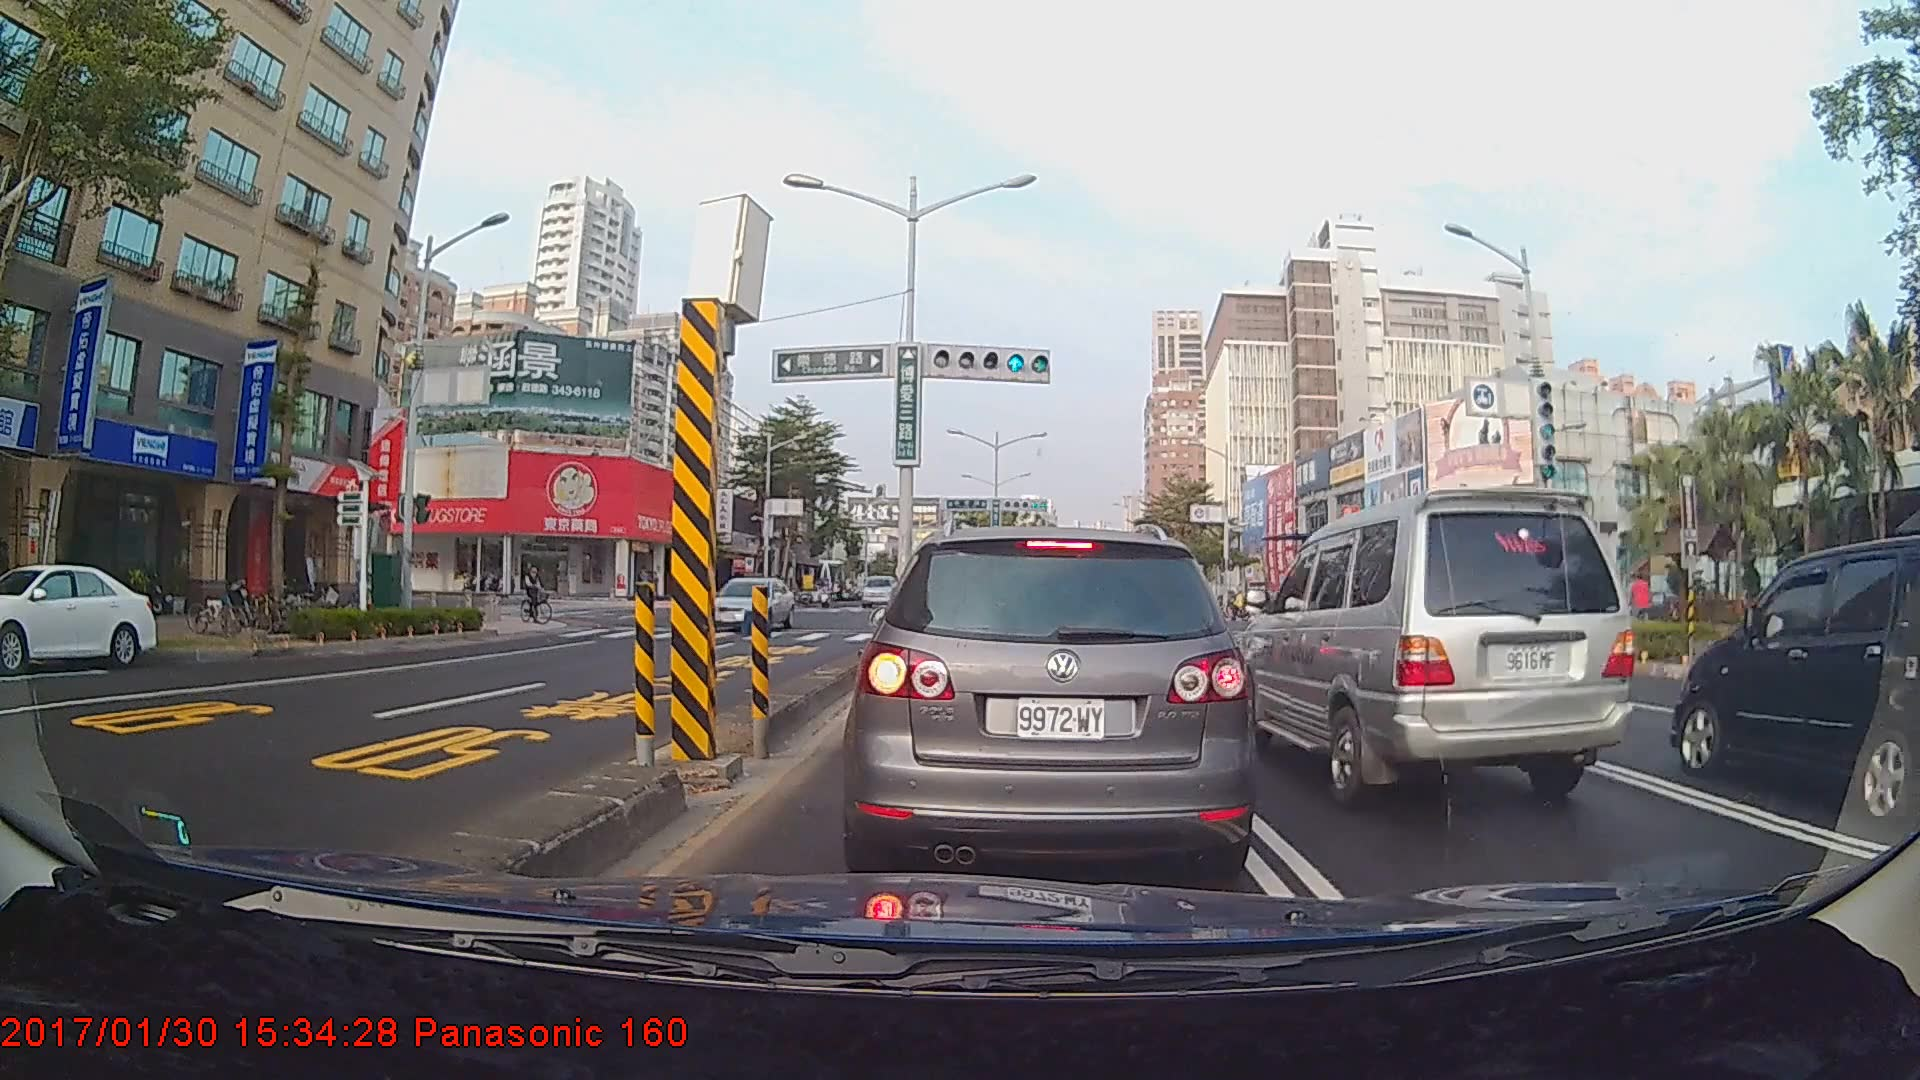rider: (518, 559, 561, 629)
vehicle: (853, 522, 1249, 877), (1233, 489, 1636, 804), (1666, 532, 1919, 828), (0, 561, 157, 671), (706, 574, 795, 634), (858, 572, 899, 607)
